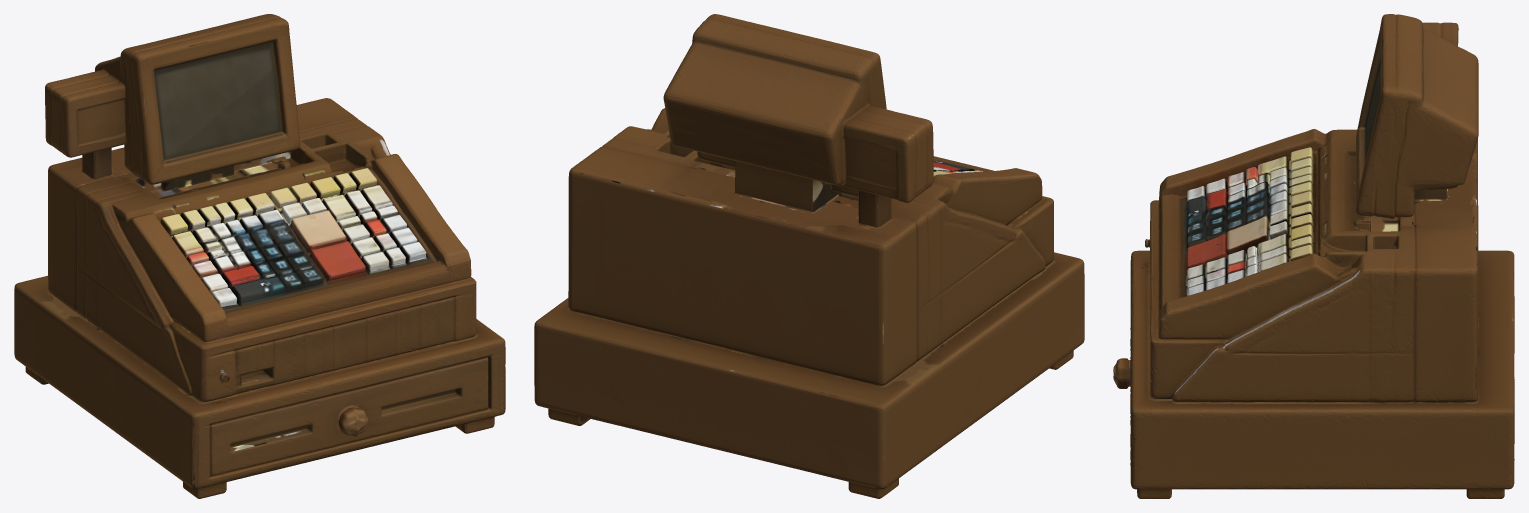
Rendered from kasa.glb.
3 views of the same model, side by side, from view 1: azimuth 30°, elevation 25°; view 2: azimuth 150°, elevation 25°; view 3: azimuth 270°, elevation 25° (orthographic). The views are drawn at different scales.
Parts seen in each view (by area): view 1: world; view 2: world; view 3: world.
Part boxes in pixels (x1,y1,x2,y2): world: (14, 14, 505, 498); world: (534, 14, 1084, 498); world: (1113, 14, 1514, 498).
Size of the model in its own units: 1.91 by 2 by 1.99.
1 material, 1 textured.
